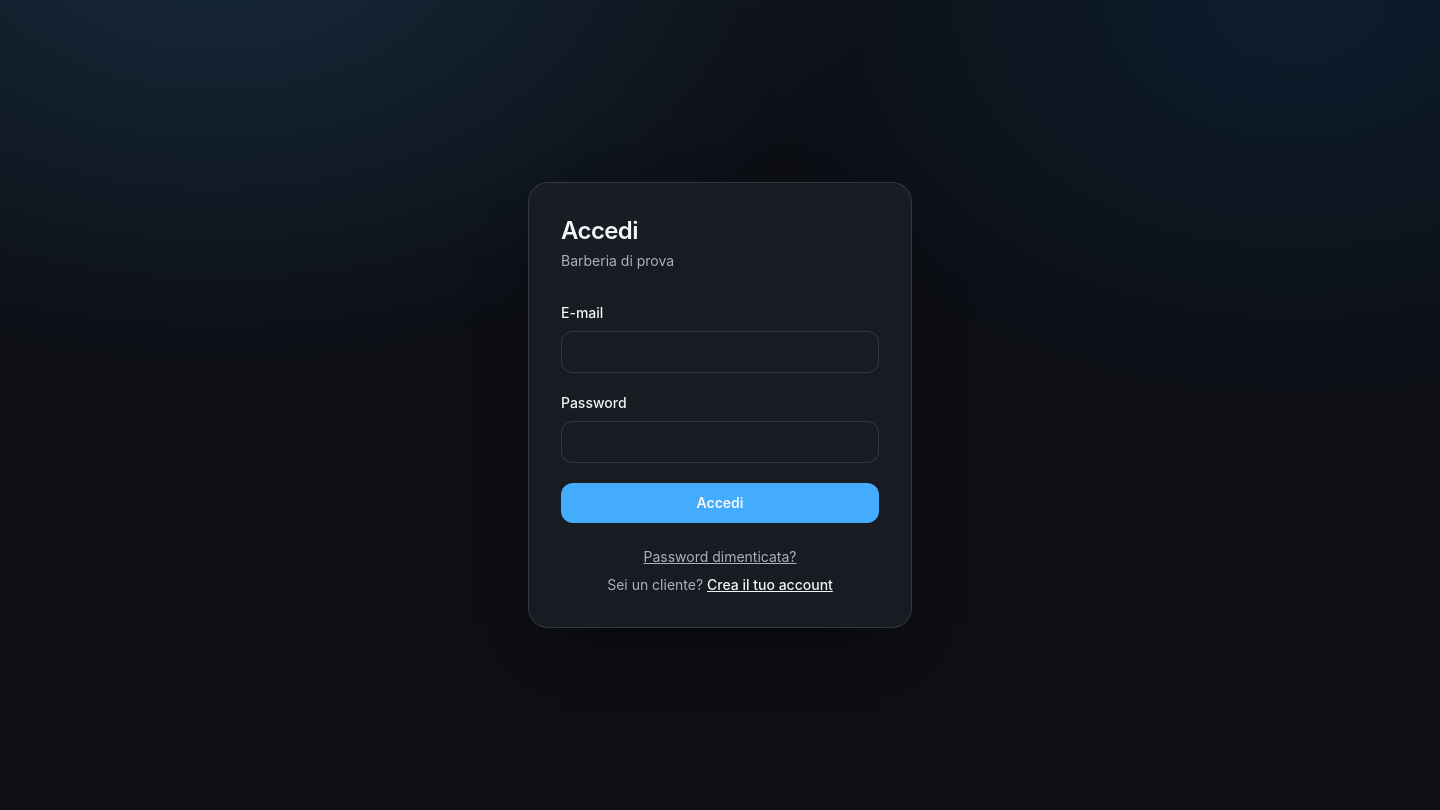
PaginaAccesso › mostra un errore di validazione senza chiamare l API
This screenshot has width=1440, height=810.
Type "non-una-email" into the field labelled "E-mail". click: (720, 352)
box: 561,331 -> 879,373
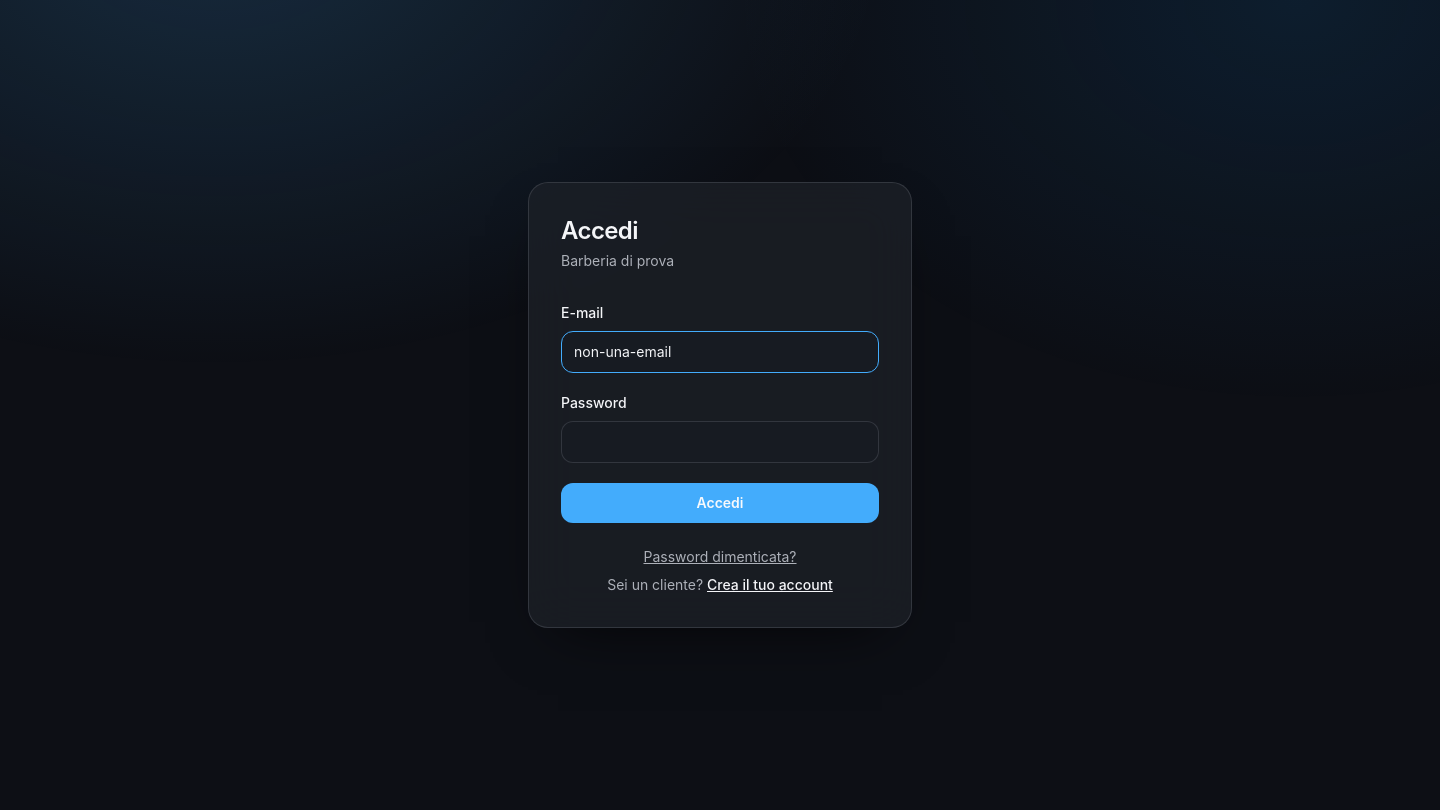
Type "password-lunga-1" into the password field labelled "Password". click: (720, 442)
box: 561,421 -> 879,463
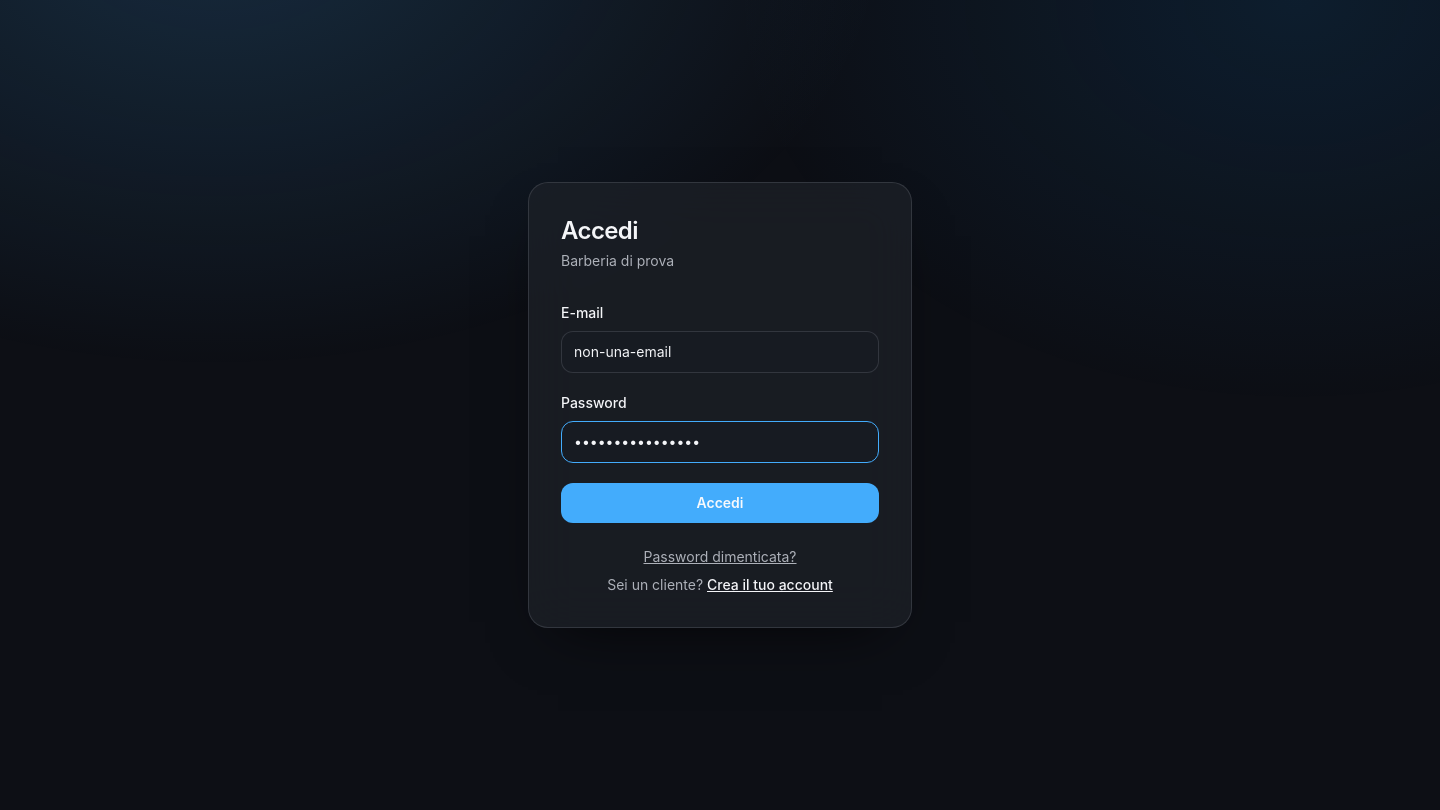
Click the button "Accedi". click: (720, 503)
box: 561,483 -> 879,523
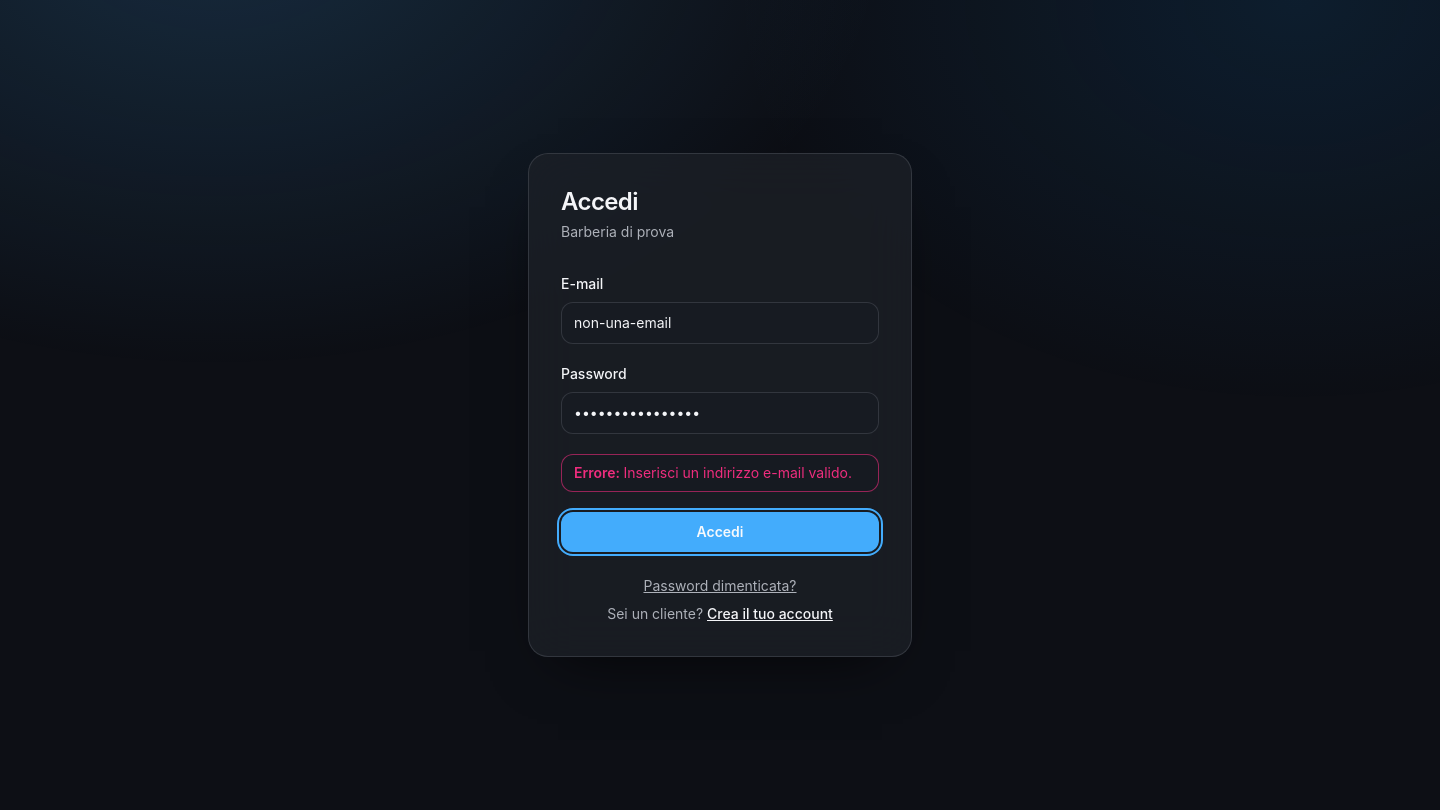
Now the message "Errore: Inserisci un indirizzo e-mail valido." is shown, box 561,454 -> 879,492
